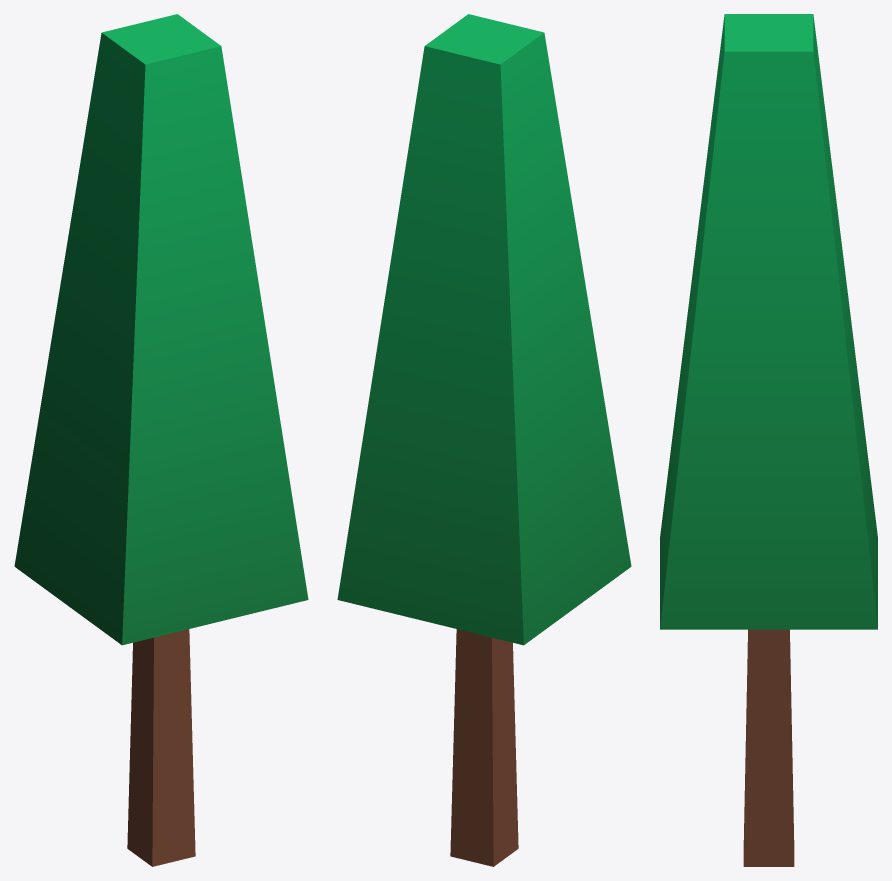
Rendered from Tree_26_gradient_green_vc.fbx.
The picture shows the model from 3 angles, left to right: view 1: azimuth 30°, elevation 25°; view 2: azimuth 150°, elevation 25°; view 3: azimuth 270°, elevation 25°; orthographic projection.
Visible parts, largest first — view 1: Tree_26_gradient_green_vc; view 2: Tree_26_gradient_green_vc; view 3: Tree_26_gradient_green_vc.
Part boxes in pixels (x1,y1,x2,y2): Tree_26_gradient_green_vc: [14, 14, 308, 866]; Tree_26_gradient_green_vc: [337, 14, 631, 866]; Tree_26_gradient_green_vc: [660, 14, 877, 866].
Size of the model in its own units: 63.19 by 263 by 63.19.
